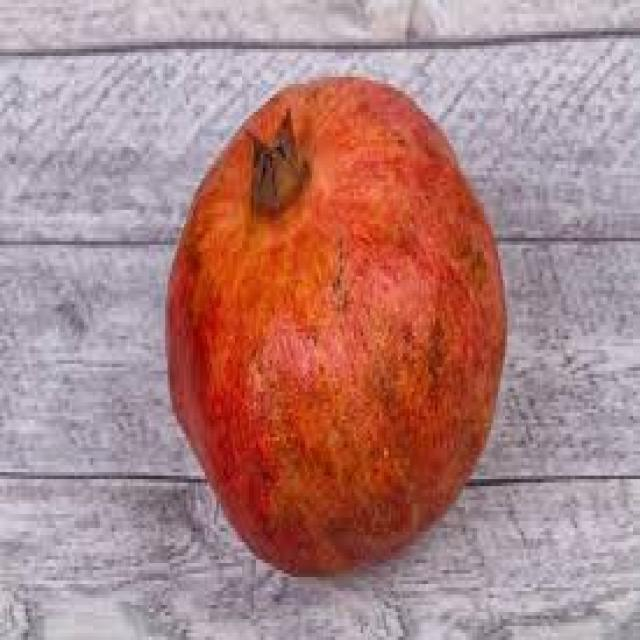overripe: (162, 70, 512, 583)
